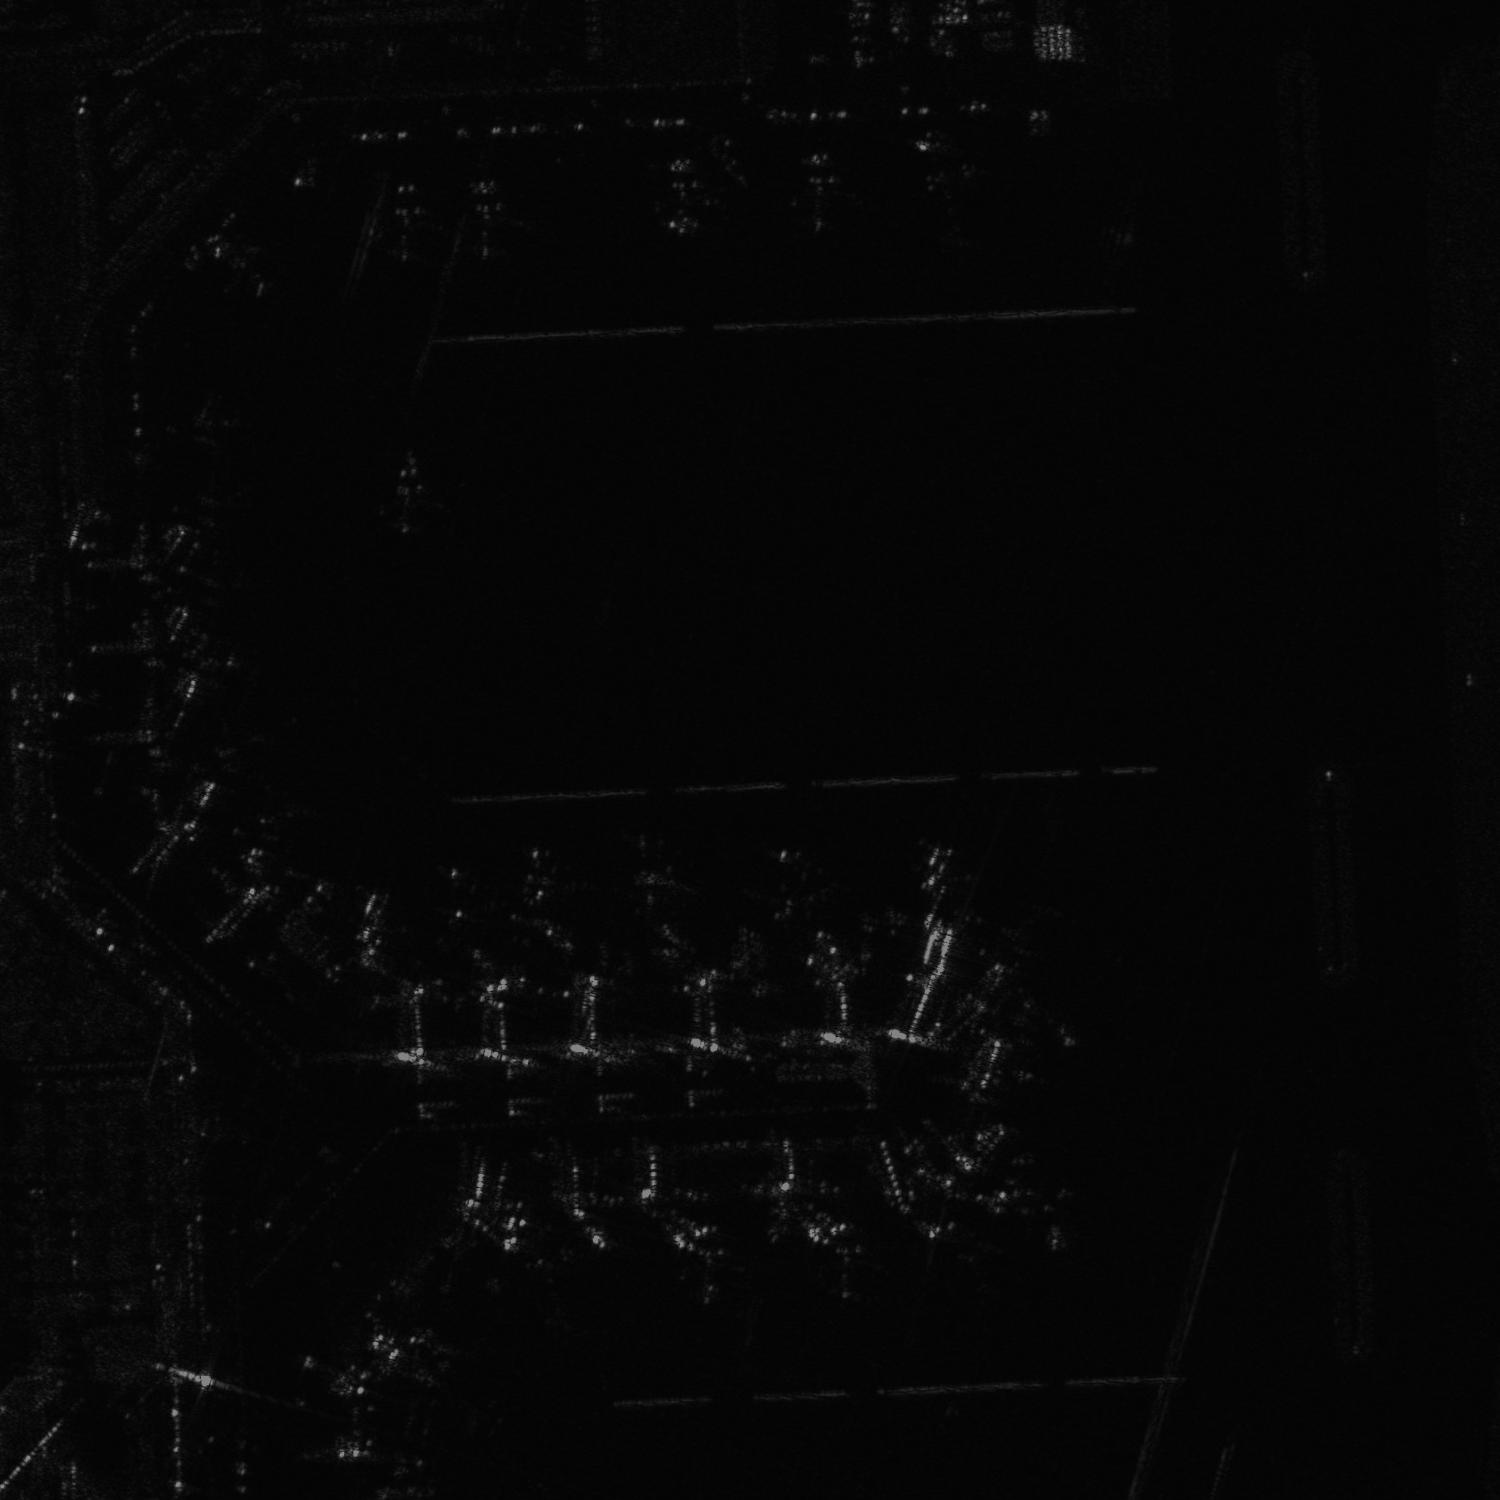A220: (434, 864, 501, 963), (159, 394, 247, 452)
A320/321: (745, 848, 841, 920), (622, 841, 705, 918), (815, 1223, 885, 1302), (891, 839, 979, 902)
Boeing737: (911, 130, 988, 242), (359, 181, 444, 266), (448, 179, 532, 262), (784, 150, 856, 240)
Boeing787: (673, 1227, 746, 1312)
other: (515, 848, 600, 960), (376, 451, 445, 538), (650, 157, 724, 238)
